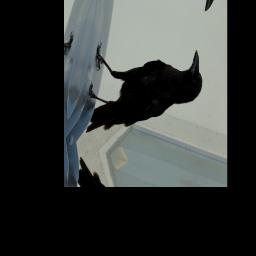Crow: (77, 14, 210, 169)
